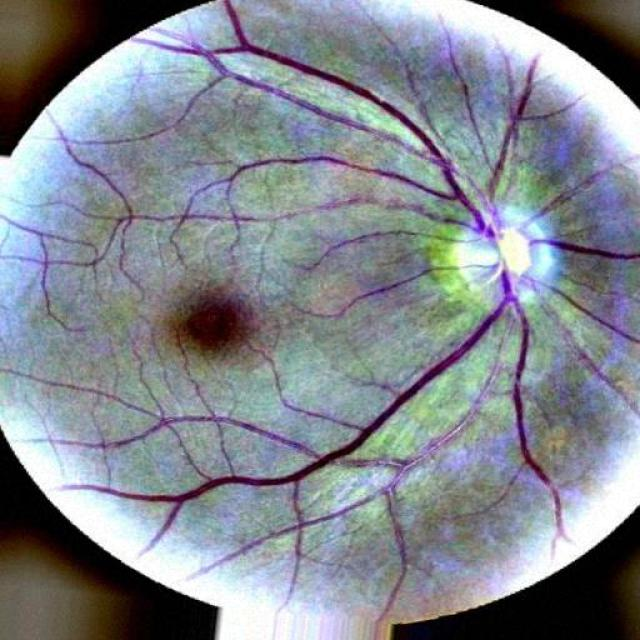Macula: (178, 296, 254, 352)
Nerves: (42, 0, 639, 574), (115, 196, 430, 250), (299, 230, 419, 276)
Optic Disk: (461, 202, 552, 310)
